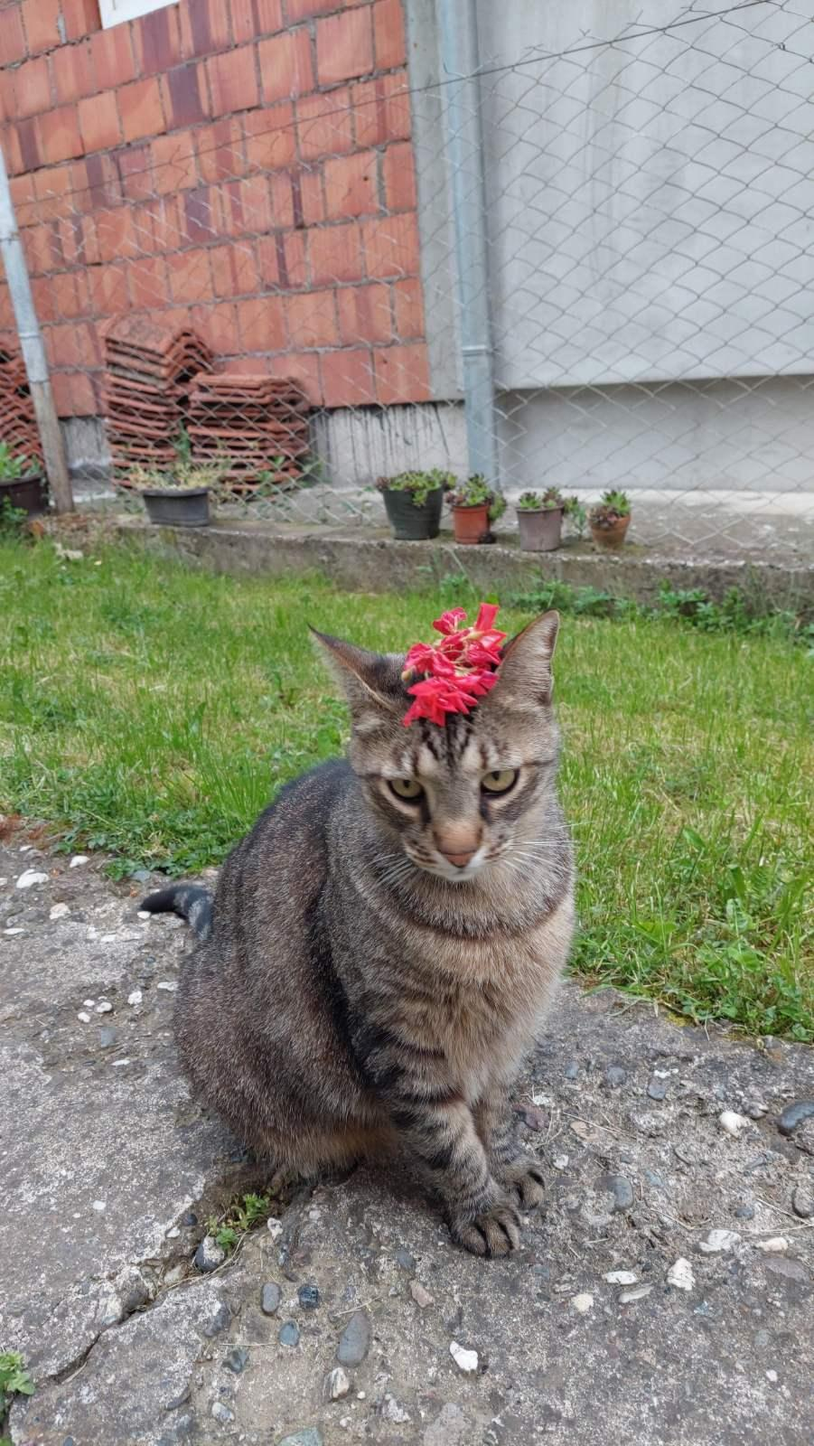macka: (140, 601, 575, 1257)
